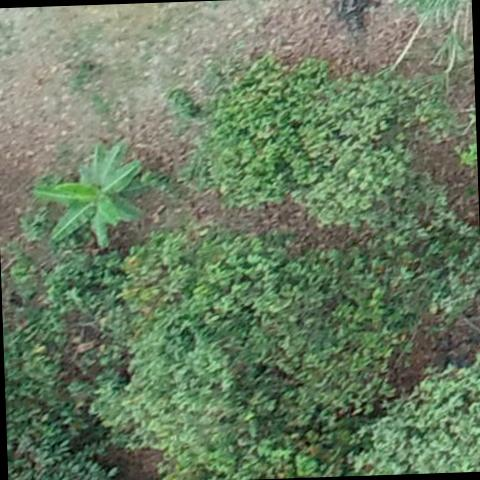Banana-plant: (32, 131, 148, 253)
